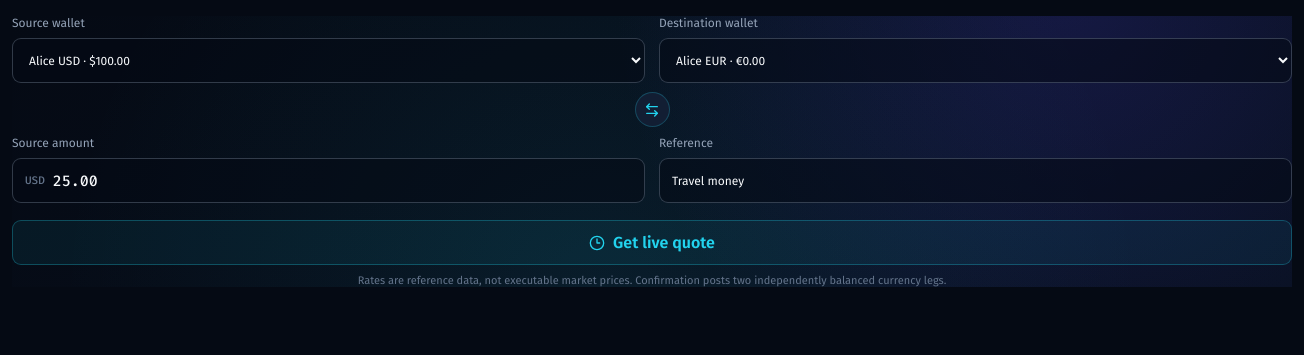
Test case: FxConversionForm › keeps quote errors below the quote button
The width and height of the screenshot is (1304, 355).
Click the button "Get live quote" at [652, 242], box [12,220,1292,265]
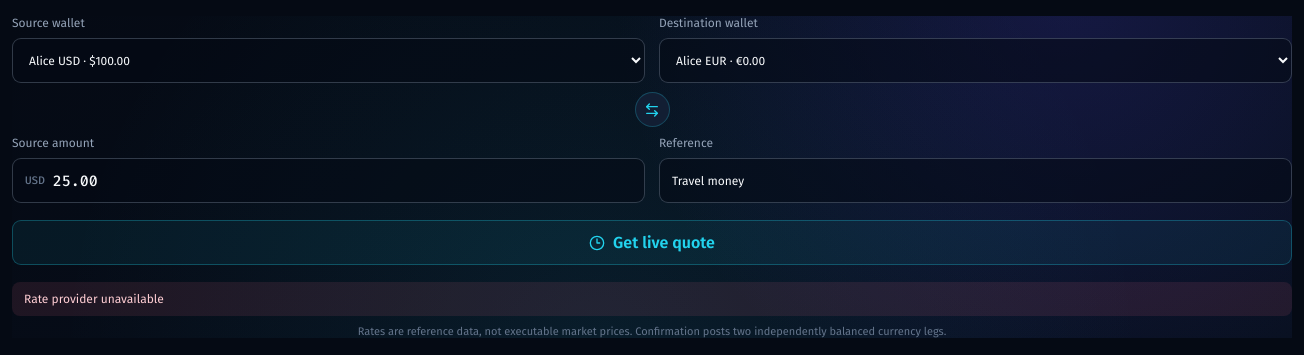
expect the message reads "Rate provider unavailable": met, box [24,292,164,306]
